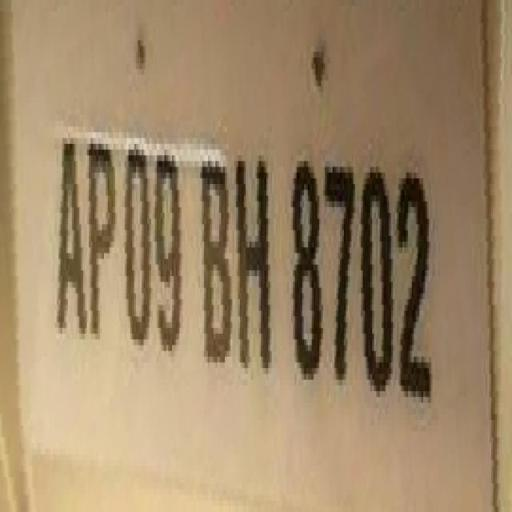number plate: (15, 39, 512, 454)
